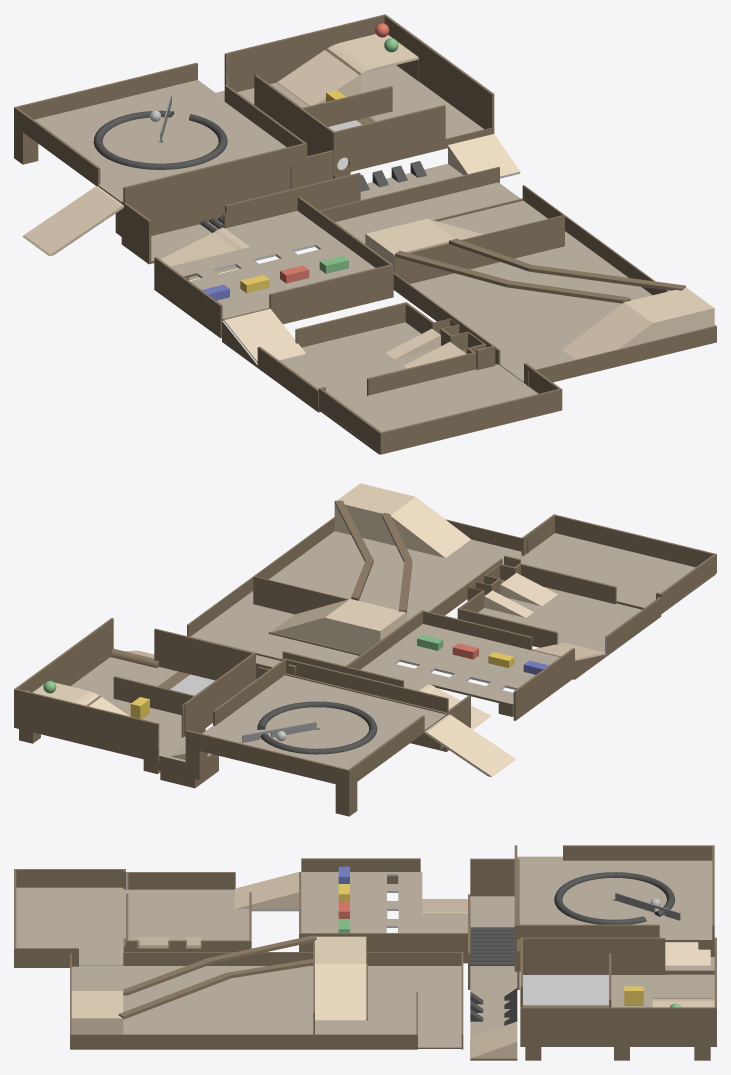
3 views of the same model, one above another, from view 1: azimuth 30°, elevation 25°; view 2: azimuth 150°, elevation 25°; view 3: azimuth 270°, elevation 25° (orthographic). The views are drawn at different scales.
Visible parts, largest first — view 1: model; view 2: model; view 3: model.
Part boxes in pixels (left/top/right/bottom): model: left=14, top=14, right=716, bottom=454; model: left=14, top=483, right=716, bottom=816; model: left=14, top=845, right=716, bottom=1060.
Bounding box in the file's own units: 28.96 × 4 × 43.63.
